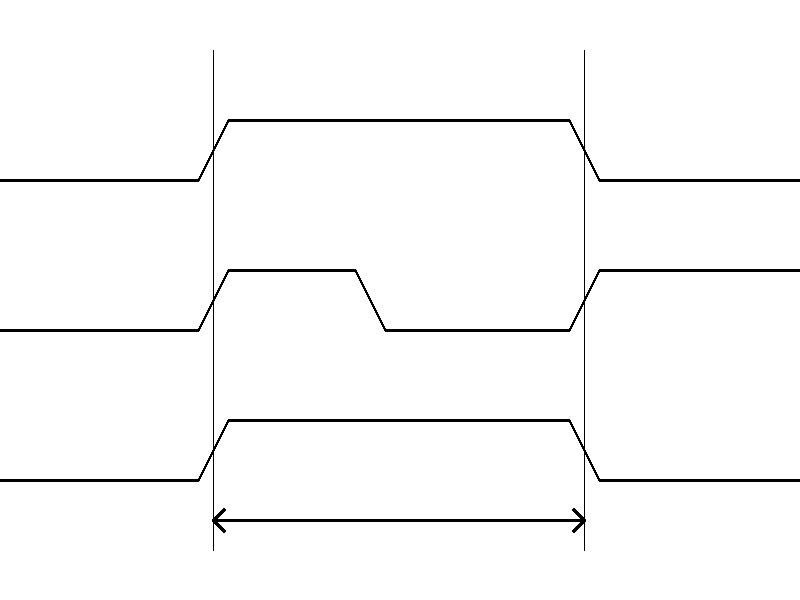double_arrow: (213, 505, 584, 535)
